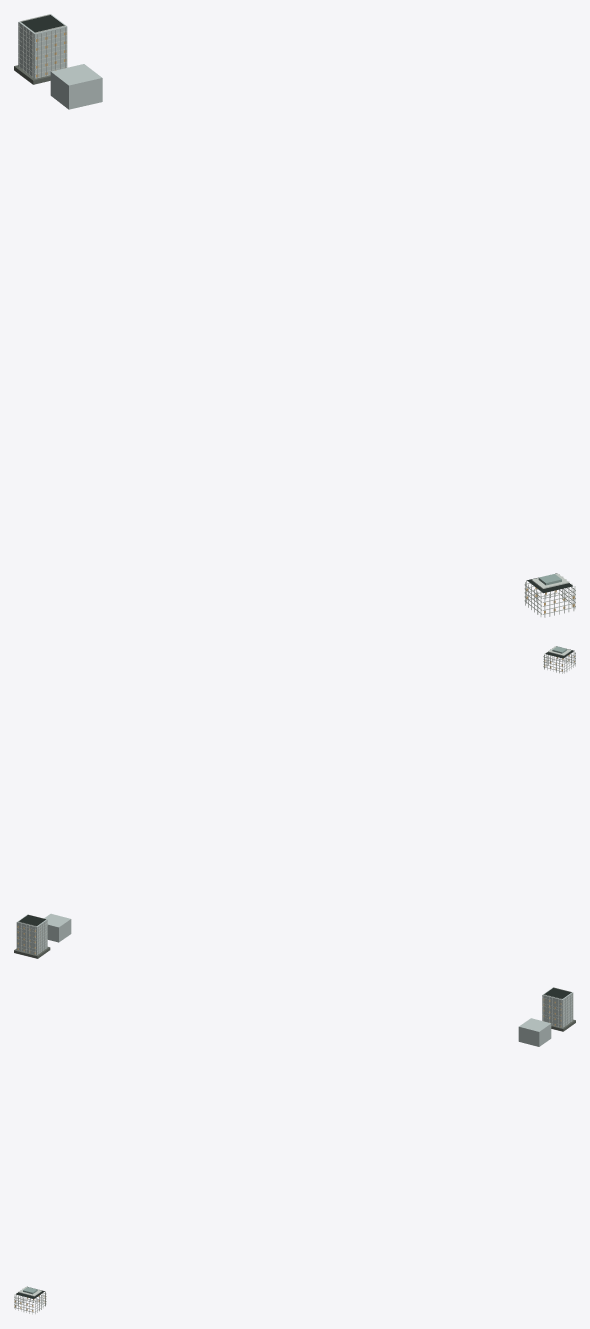
Rendered from software-base-2.glb.
3 views of the same model, one above another, from view 1: azimuth 30°, elevation 25°; view 2: azimuth 150°, elevation 25°; view 3: azimuth 330°, elevation 25° (orthographic). The views are drawn at different scales.
Visible parts, largest first — view 1: envelope, fins, floor_bands; view 2: envelope, fins, floor_bands; view 3: envelope, fins, floor_bands.
Boxes of the visible parts, bbox=[...] form: envelope: bbox=[18, 14, 102, 109]; fins: bbox=[19, 23, 575, 617]; floor_bands: bbox=[18, 26, 575, 614]; envelope: bbox=[16, 913, 71, 954]; fins: bbox=[18, 649, 575, 954]; floor_bands: bbox=[17, 652, 575, 954]; envelope: bbox=[518, 987, 573, 1046]; fins: bbox=[14, 993, 572, 1314]; floor_bands: bbox=[14, 995, 572, 1312].
Bounding box in the file's own units: 304 × 70.9 × 1794.
